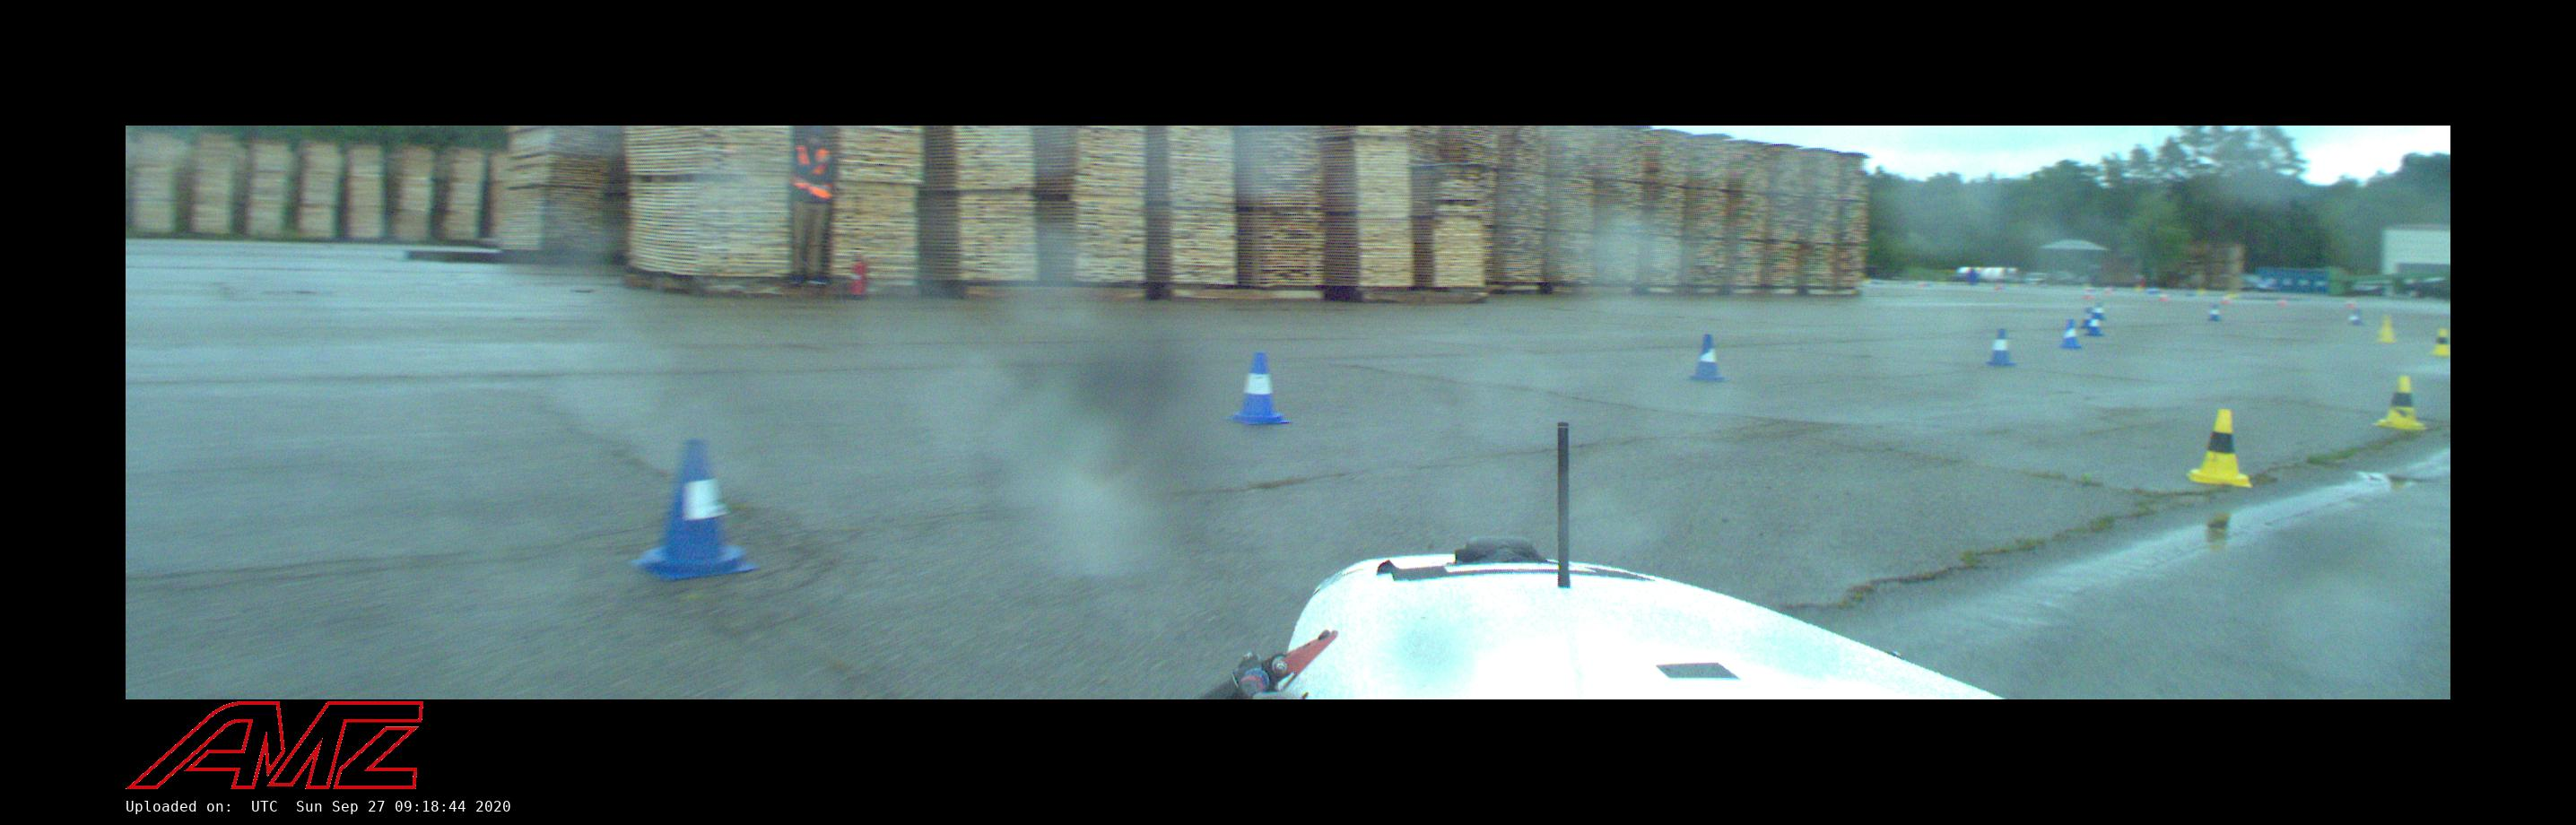blue_cone: (632, 440, 757, 580), (1226, 353, 1291, 424), (1687, 335, 1725, 381), (1986, 329, 2016, 366), (2060, 319, 2081, 348), (2085, 317, 2103, 335), (2349, 311, 2364, 325), (2093, 304, 2106, 319), (2208, 306, 2221, 320), (2081, 309, 2091, 329)
yellow_cone: (2187, 409, 2251, 486), (2372, 376, 2425, 429), (2431, 329, 2449, 355), (2377, 320, 2397, 342)
